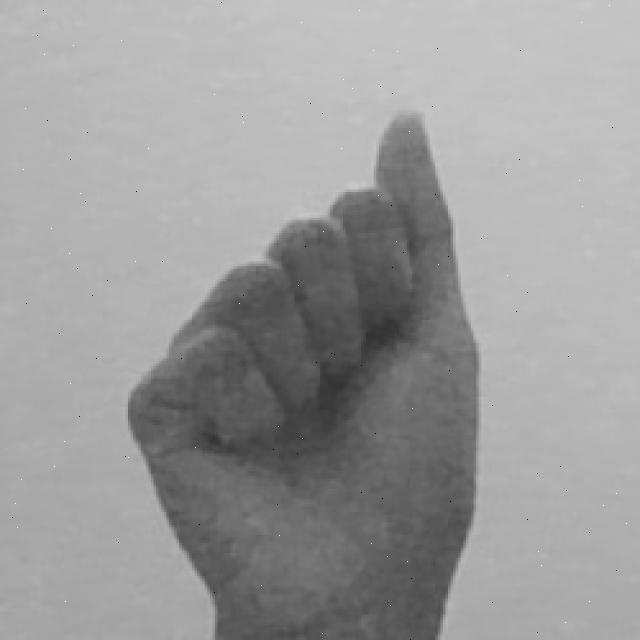A: (118, 105, 490, 640)
